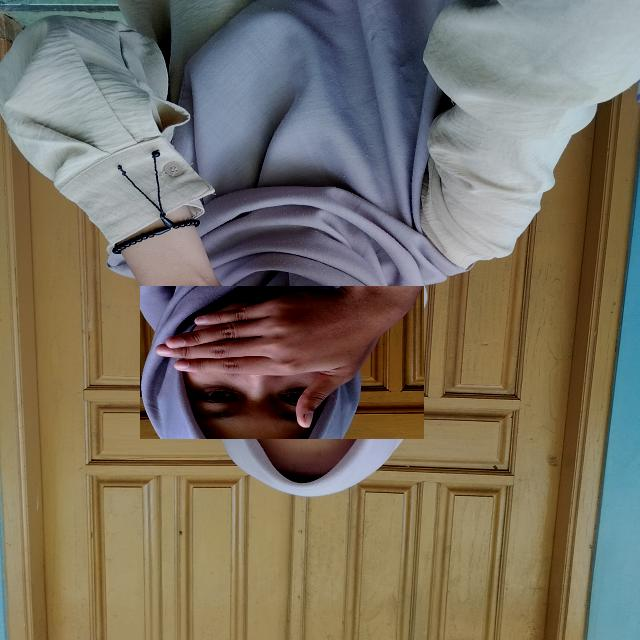buruk: (140, 286, 424, 439)
